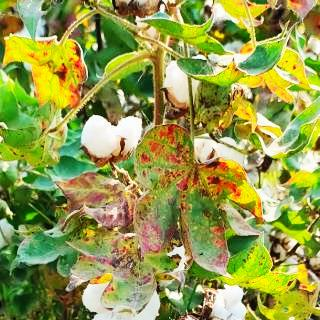blight: (132, 117, 271, 273), (54, 201, 186, 309), (0, 27, 106, 116)
